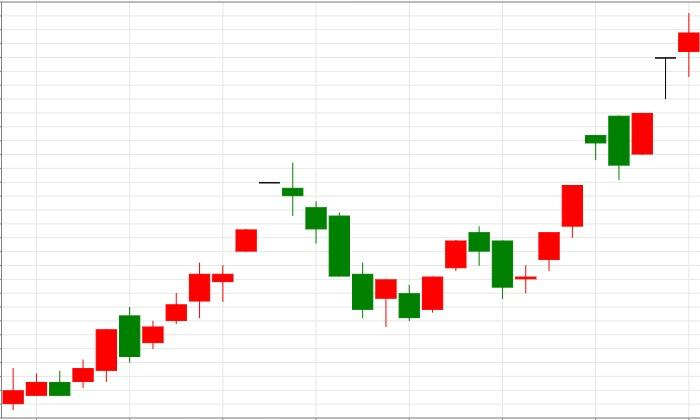three_white_soldiers_rise: (468, 185, 583, 299)
